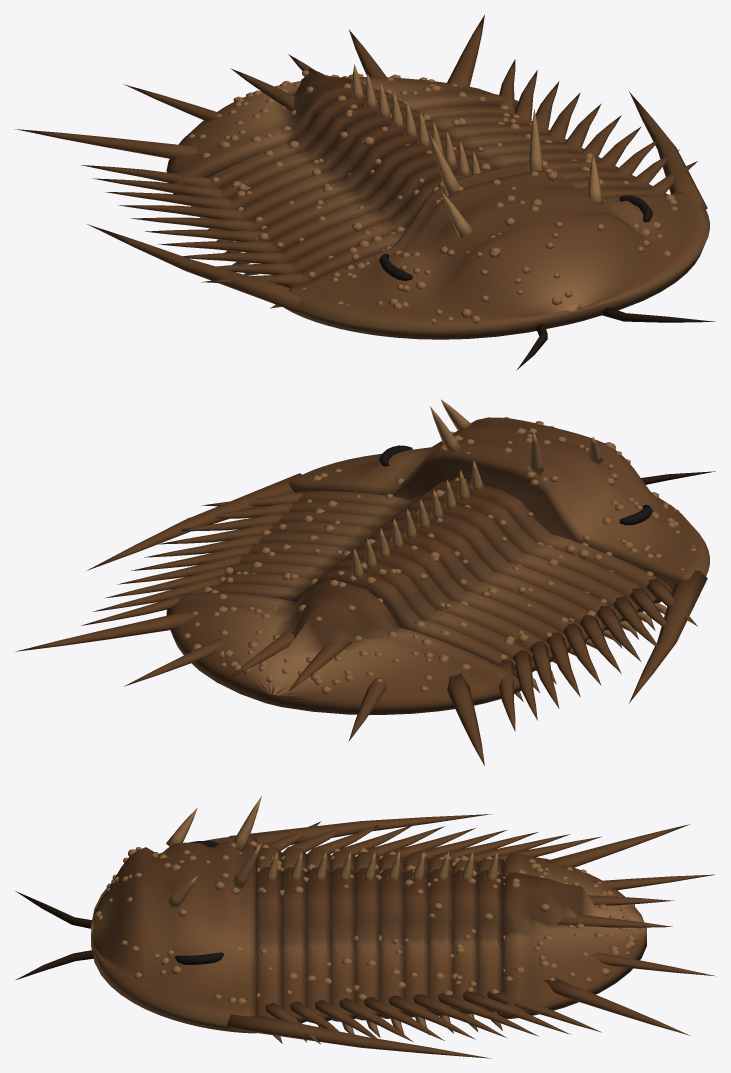
File: Terataspis.fbx
3 views of the same model, one above another, from view 1: azimuth 30°, elevation 25°; view 2: azimuth 150°, elevation 25°; view 3: azimuth 270°, elevation 25° (orthographic). The views are drawn at different scales.
Visible parts, largest first — view 1: Terataspis; view 2: Terataspis; view 3: Terataspis.
Part boxes in pixels (x1=…): Terataspis: x1=15, y1=14, x2=715, y2=370; Terataspis: x1=14, y1=399, x2=715, y2=766; Terataspis: x1=15, y1=796, x2=716, y2=1058.
Bounding box in the file's own units: 1.35 × 0.3485 × 1.64.
